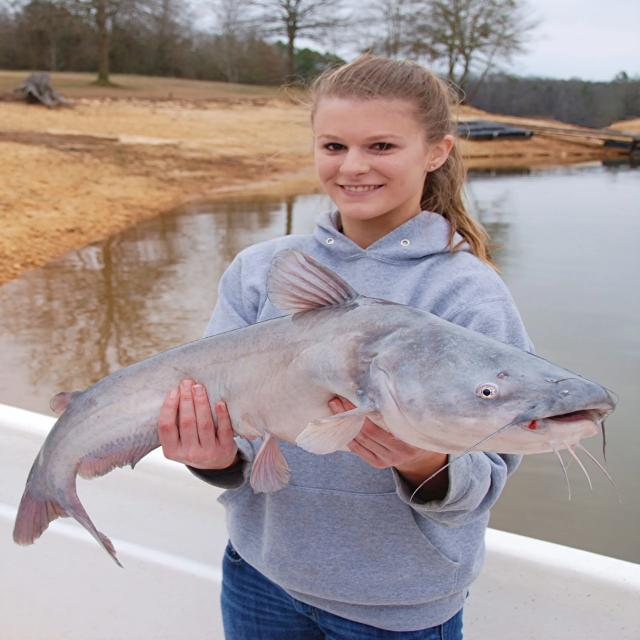Catfish - Blue: (14, 250, 614, 560)
